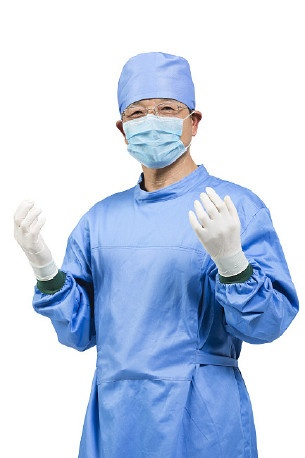Mask: (120, 96, 193, 169)
